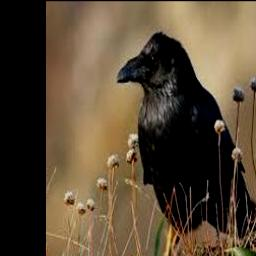Crow: (117, 30, 256, 241)
